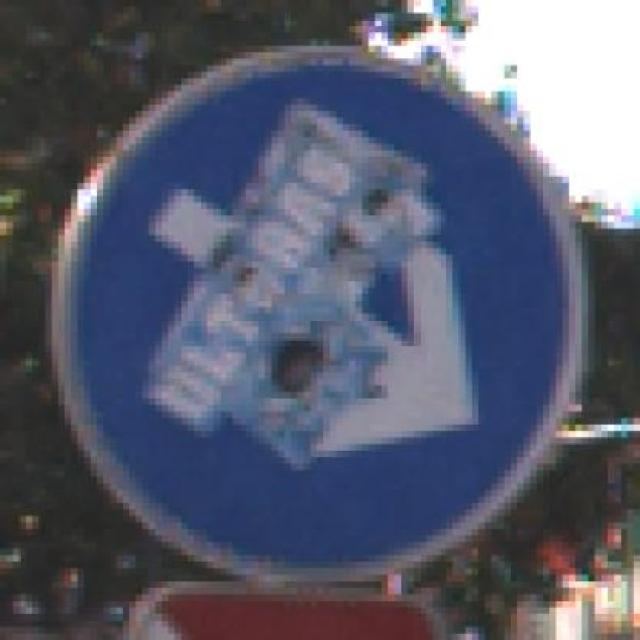Keep-Right: (32, 26, 608, 582)
